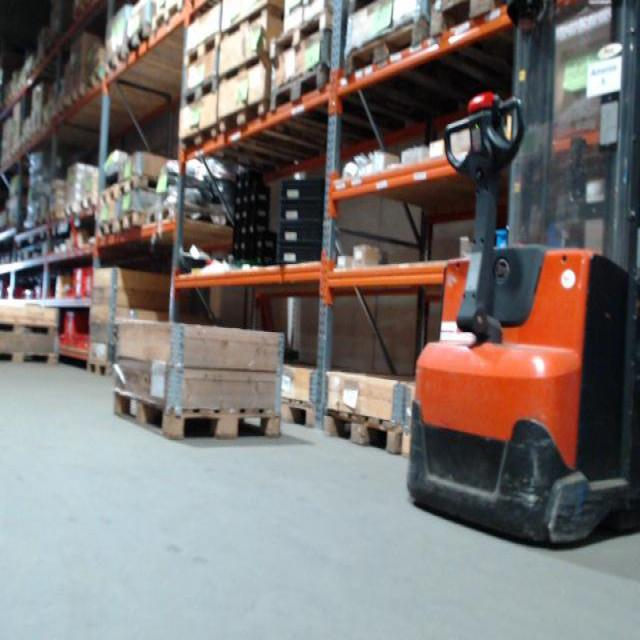pallet: (112, 382, 285, 444), (339, 17, 431, 92), (320, 405, 398, 463), (265, 11, 341, 61), (427, 1, 516, 41), (268, 63, 336, 112), (219, 4, 280, 46), (218, 94, 268, 138), (216, 48, 267, 89), (280, 392, 325, 434), (183, 29, 221, 74), (178, 122, 220, 157), (180, 71, 218, 109), (152, 2, 185, 38), (0, 320, 59, 340), (3, 349, 58, 368), (118, 209, 167, 228), (343, 2, 401, 18), (117, 176, 176, 191), (127, 26, 152, 58), (97, 216, 119, 242), (86, 359, 111, 379), (98, 182, 117, 208)
pallet_truck: (404, 2, 638, 558)
small_load_carrier: (276, 244, 326, 268), (275, 221, 327, 244), (278, 178, 329, 201), (275, 200, 330, 221)
